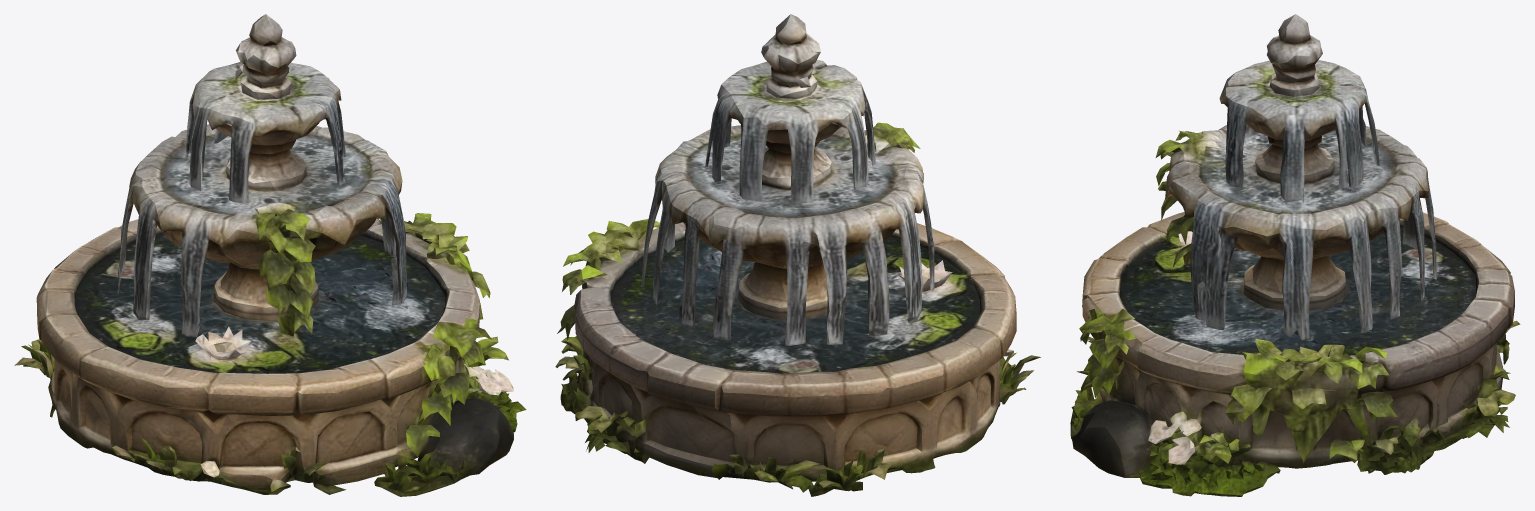
Rendered from fountain.glb.
3 renders of one model, left to right at view 1: azimuth 30°, elevation 25°; view 2: azimuth 150°, elevation 25°; view 3: azimuth 270°, elevation 25°, orthographic. The views are drawn at different scales.
Parts seen in each view (by area): view 1: geometry_0; view 2: geometry_0; view 3: geometry_0.
Part boxes in pixels (x1,y1,x2,y2): geometry_0: [14, 14, 526, 496]; geometry_0: [555, 14, 1040, 496]; geometry_0: [1070, 14, 1520, 496].
Size of the model in its own units: 1.55 by 1.5 by 1.55.
Materials: 1 (1 with a texture image).
